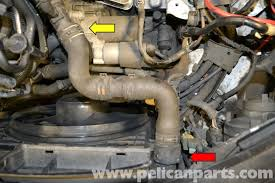radiator_hose: (63, 26, 178, 158)
